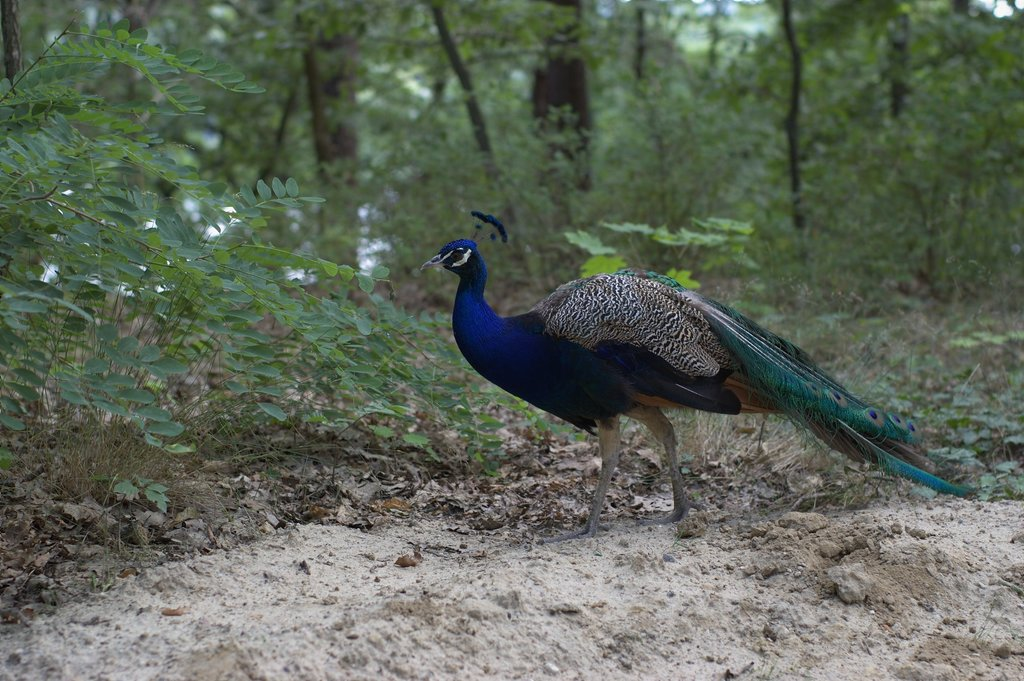Bird: (419, 210, 977, 545)
